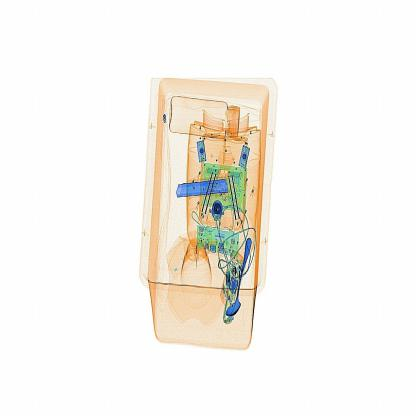pliers: (169, 167, 236, 212)
